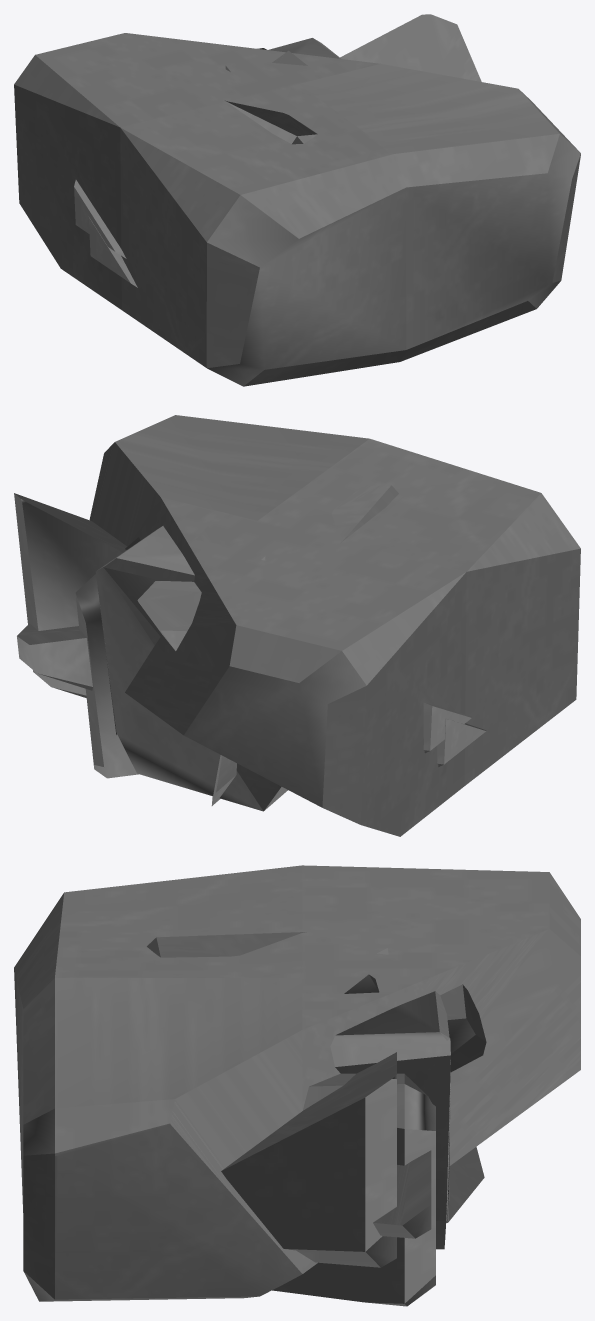
Rendered from hhn_02_md.obj.
3 renders of one model, top to bottom at view 1: azimuth 30°, elevation 25°; view 2: azimuth 150°, elevation 25°; view 3: azimuth 270°, elevation 25°, orthographic. The views are drawn at different scales.
Visible parts, largest first — view 1: Group[7], Group[0], Group[3], Group[1], Group[6]; view 2: Group[7], Group[6], Group[0], Group[8], Group[3], Group[1], Group[5]; view 3: Group[7], Group[0], Group[8], Group[6], Group[3], Group[1], Group[5].
Boxes of the visible parts, left/top/right/bottom form: Group[7]: left=14, top=33, right=580, bottom=386; Group[0]: left=88, top=14, right=481, bottom=287; Group[3]: left=224, top=48, right=317, bottom=144; Group[1]: left=74, top=180, right=126, bottom=258; Group[6]: left=268, top=38, right=340, bottom=58; Group[7]: left=89, top=415, right=580, bottom=836; Group[6]: left=95, top=526, right=287, bottom=811; Group[0]: left=14, top=493, right=486, bottom=766; Group[8]: left=75, top=537, right=140, bottom=778; Group[3]: left=137, top=485, right=398, bottom=650; Group[1]: left=17, top=623, right=471, bottom=753; Group[5]: left=211, top=755, right=236, bottom=805; Group[7]: left=14, top=865, right=580, bottom=1301; Group[0]: left=221, top=1052, right=396, bottom=1267; Group[8]: left=272, top=1073, right=435, bottom=1306; Group[6]: left=330, top=991, right=450, bottom=1249; Group[3]: left=147, top=932, right=486, bottom=1072; Group[1]: left=373, top=1150, right=431, bottom=1238; Group[5]: left=446, top=1147, right=484, bottom=1222.
Size of the model in its own units: 1.29 by 0.7149 by 1.3.
1 material, 1 textured.
